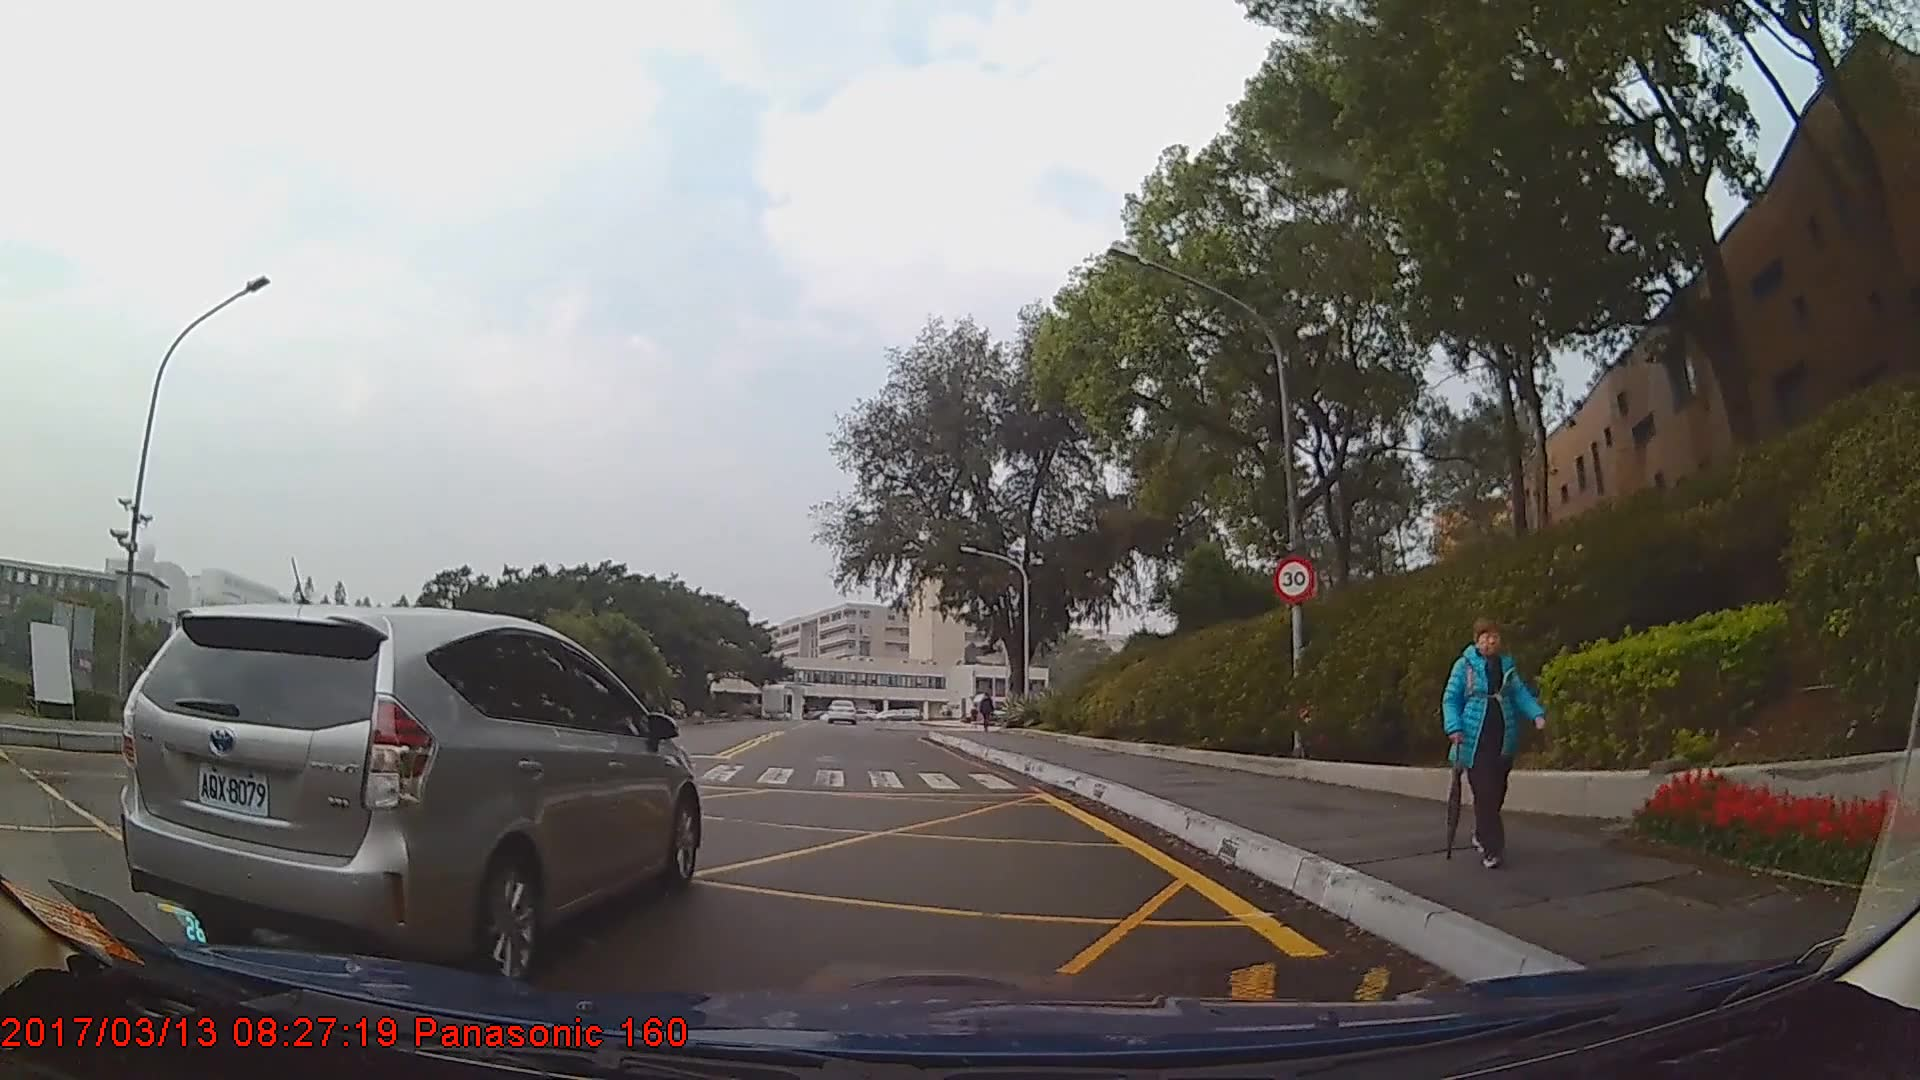pedestrian: (1435, 604, 1557, 879), (980, 693, 1000, 735)
vehicle: (122, 608, 703, 987), (825, 698, 858, 725)
